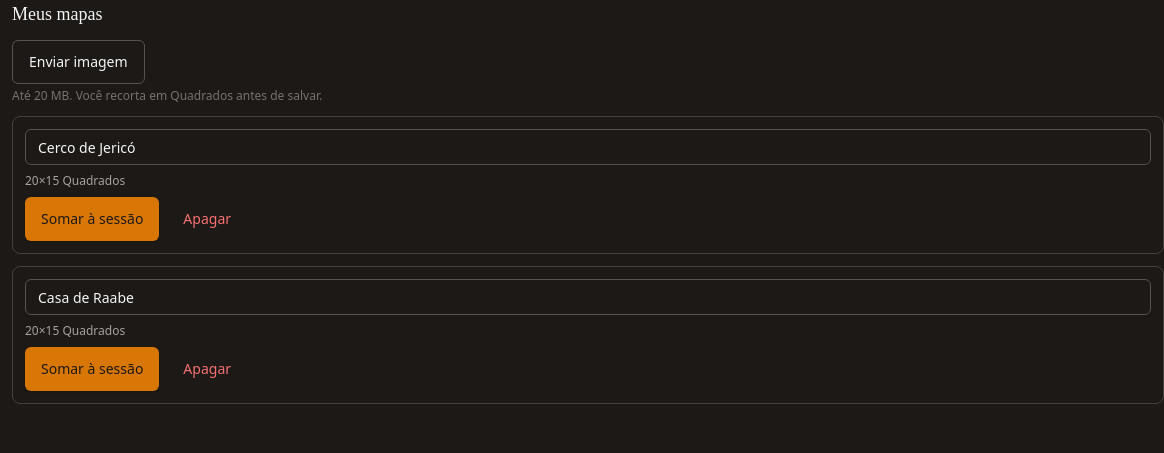
Test: MasterMapLibrary: renomear e apagar › mapa usado por sessão ativa não se apaga, e o aviso diz por quê
What coordinates should you click on to do the following:
click the button with aria-label "Apagar meu mapa Casa de Raabe"
I would click on:
 (207, 369)
Its box is left=167, top=347, right=247, bottom=391.
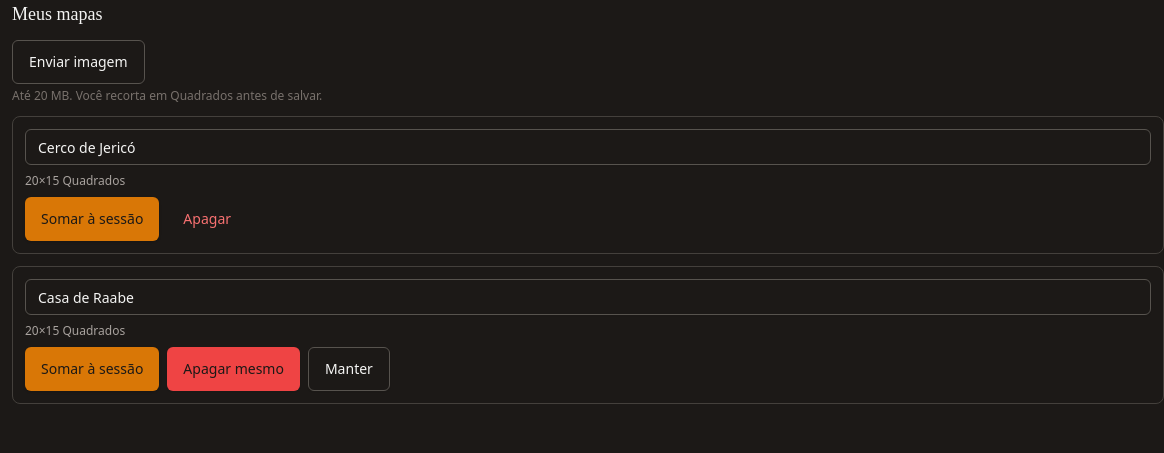
What coordinates should you click on to do the following:
click the button with aria-label "Confirmar: apagar Casa de Raabe"
I would click on:
 (234, 369)
Its box is left=167, top=347, right=300, bottom=391.
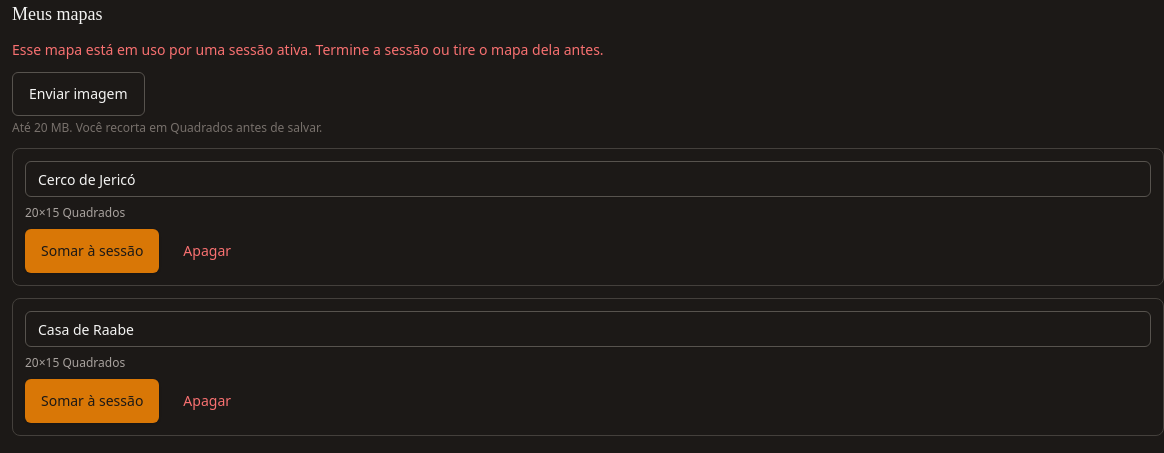
Expected: the message shows "em uso por uma sessão ativa", left=12, top=40, right=604, bottom=59
